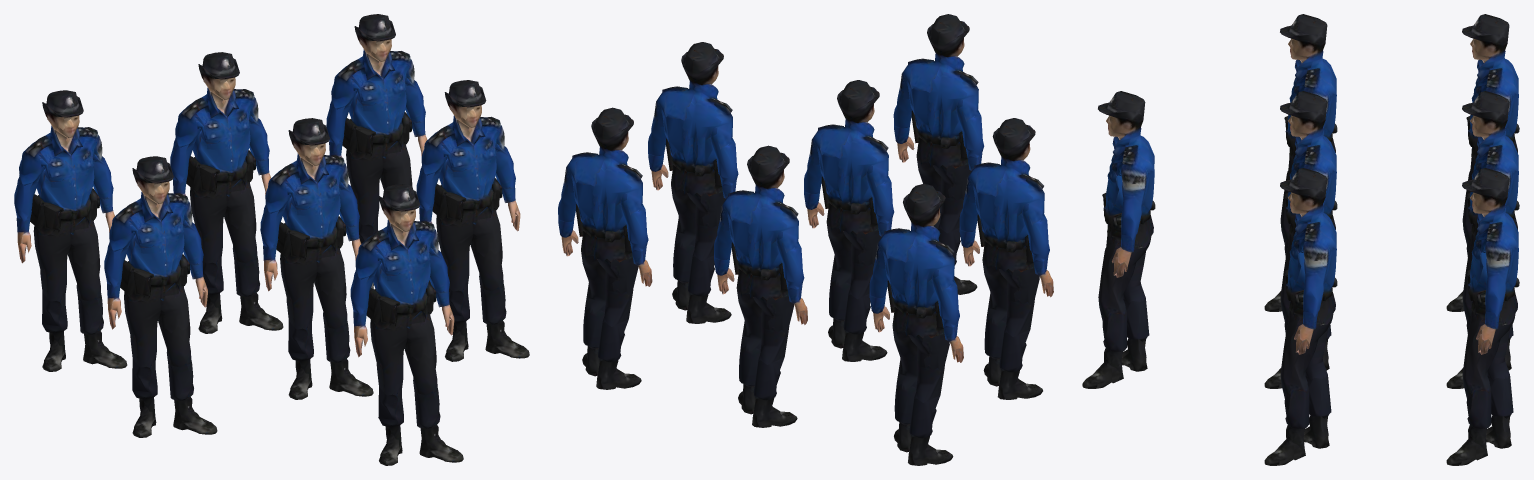
File: parade_china_idle_lod2.glb
3 renders of one model, left to right at view 1: azimuth 30°, elevation 25°; view 2: azimuth 150°, elevation 25°; view 3: azimuth 270°, elevation 25°, orthographic.
Visible parts, largest first — view 1: tripo_node_e47f3cb7-5733-46bb-8eb3-97cf68cdc512; view 2: tripo_node_e47f3cb7-5733-46bb-8eb3-97cf68cdc512; view 3: tripo_node_e47f3cb7-5733-46bb-8eb3-97cf68cdc512.
Part boxes in pixels (x1,y1,x2,y2): tripo_node_e47f3cb7-5733-46bb-8eb3-97cf68cdc512: (14,14,529,465); tripo_node_e47f3cb7-5733-46bb-8eb3-97cf68cdc512: (558,14,1053,465); tripo_node_e47f3cb7-5733-46bb-8eb3-97cf68cdc512: (1082,14,1519,465).
Bounding box in the file's own units: 1.56 × 0.998 × 1.44.
Materials: 1 (1 with a texture image).
